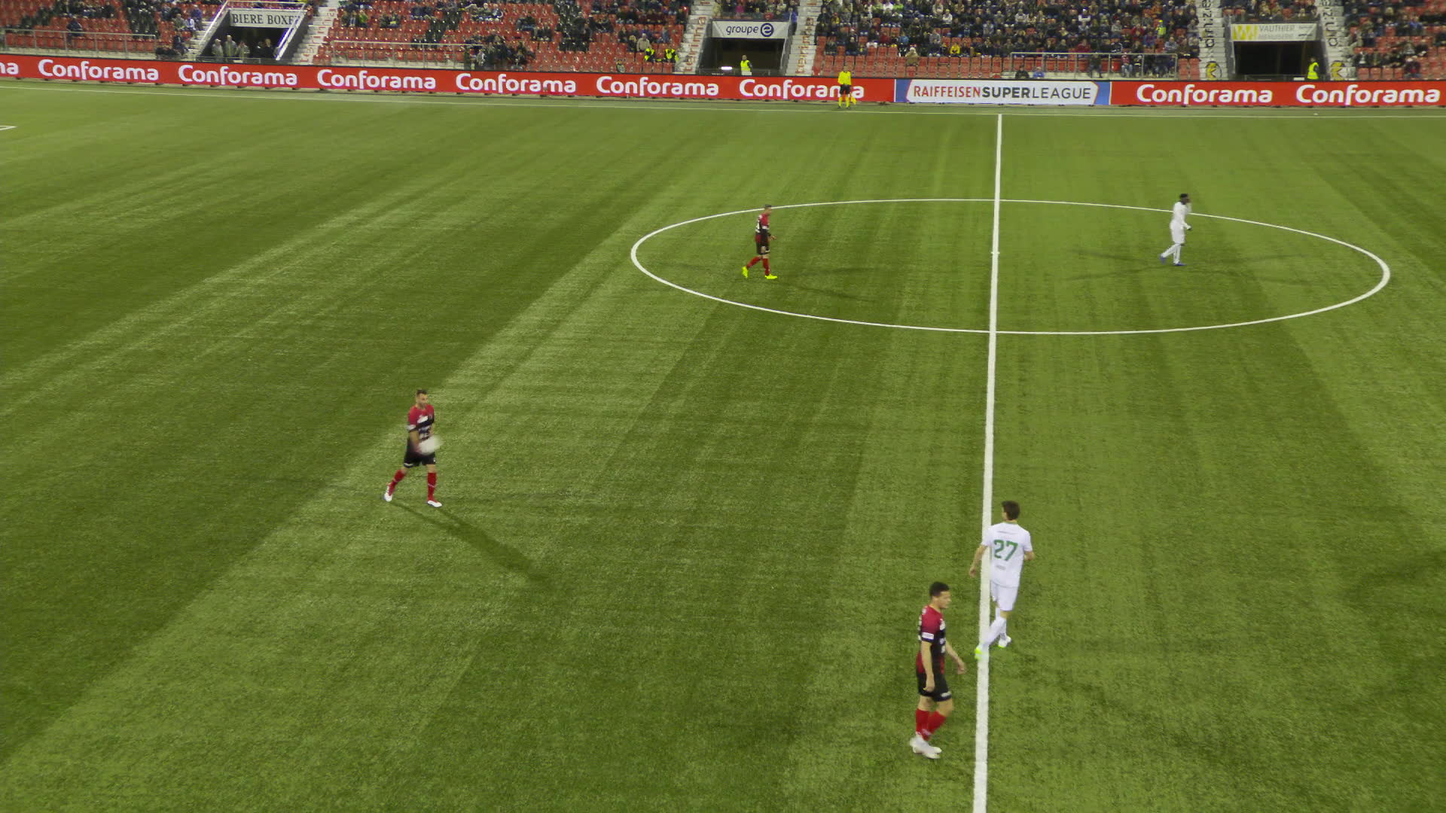ball: (417, 425, 441, 446)
player: (893, 581, 965, 755), (968, 500, 1029, 658), (385, 389, 444, 508), (740, 204, 779, 280), (1158, 193, 1191, 266)
referee: (836, 65, 856, 110)
